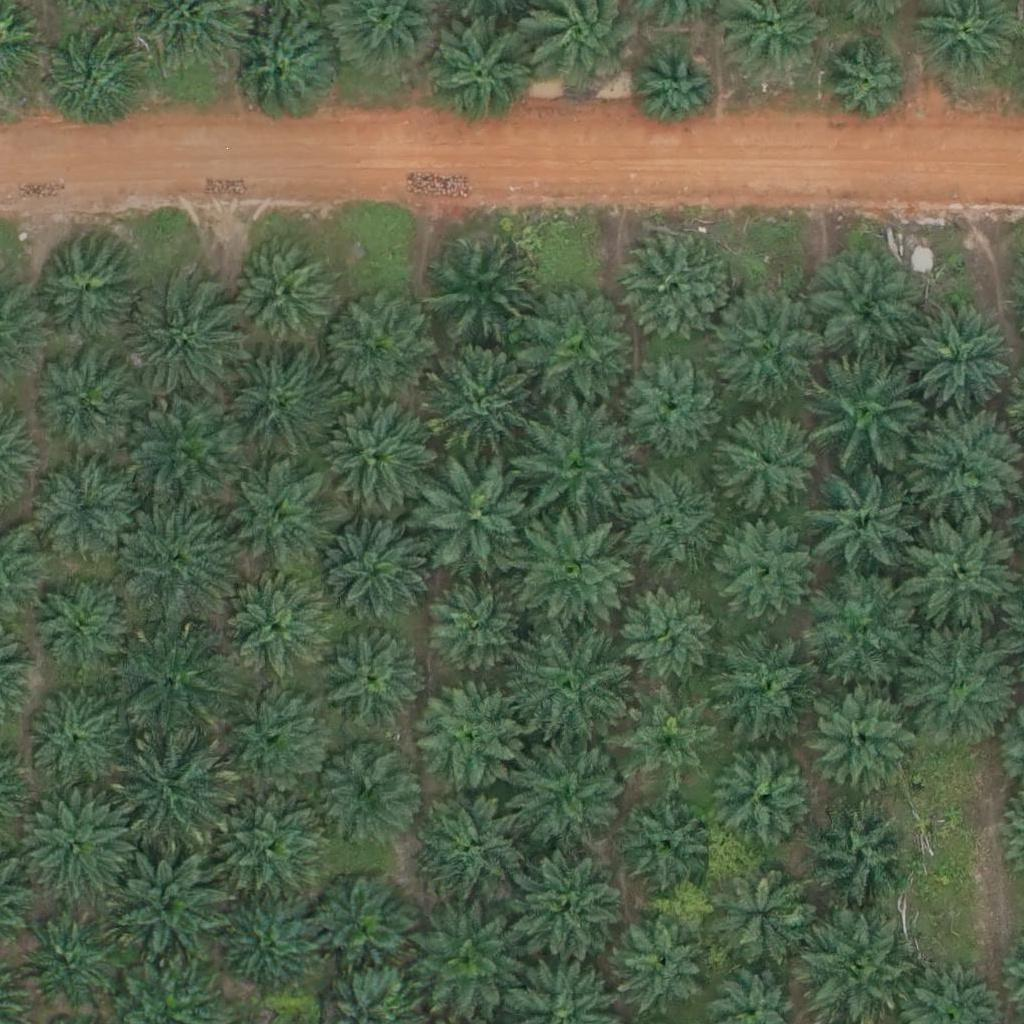Kelapa_Sawit: (906, 302, 1019, 416), (906, 511, 1019, 625), (805, 571, 918, 685), (522, 512, 635, 626), (419, 456, 532, 570), (227, 461, 340, 575), (114, 854, 227, 968), (902, 416, 1015, 529), (899, 630, 1012, 743), (812, 353, 925, 466), (710, 627, 823, 740), (619, 234, 732, 347), (517, 295, 630, 408), (409, 903, 522, 1016), (416, 787, 529, 900), (408, 676, 521, 789), (320, 291, 433, 404), (321, 395, 434, 508), (314, 627, 427, 740), (309, 735, 422, 848), (306, 869, 419, 982), (207, 793, 320, 906), (218, 350, 331, 463), (132, 396, 245, 509), (112, 500, 225, 613), (30, 343, 143, 456), (422, 18, 535, 131), (716, 291, 828, 405), (517, 741, 629, 855), (225, 569, 337, 683), (28, 233, 140, 347), (812, 691, 924, 804), (806, 466, 918, 579), (810, 254, 922, 367), (800, 794, 912, 907), (610, 462, 722, 575), (520, 410, 632, 523), (516, 630, 628, 743), (513, 847, 625, 960), (429, 231, 541, 344), (422, 342, 534, 455), (315, 520, 427, 633), (218, 681, 330, 794), (126, 284, 238, 397), (119, 624, 231, 737), (120, 737, 232, 850), (21, 790, 133, 903), (225, 12, 337, 125), (718, 407, 818, 508), (718, 753, 818, 854), (714, 864, 814, 965), (621, 788, 721, 889), (615, 580, 715, 681), (620, 348, 720, 449), (221, 902, 321, 1003), (228, 244, 328, 345), (23, 915, 123, 1016), (23, 682, 123, 783), (36, 466, 136, 567), (42, 34, 142, 135), (717, 518, 817, 618), (614, 912, 714, 1012), (620, 687, 720, 787), (424, 576, 524, 676), (30, 581, 130, 681), (825, 45, 913, 133), (632, 45, 719, 133)
